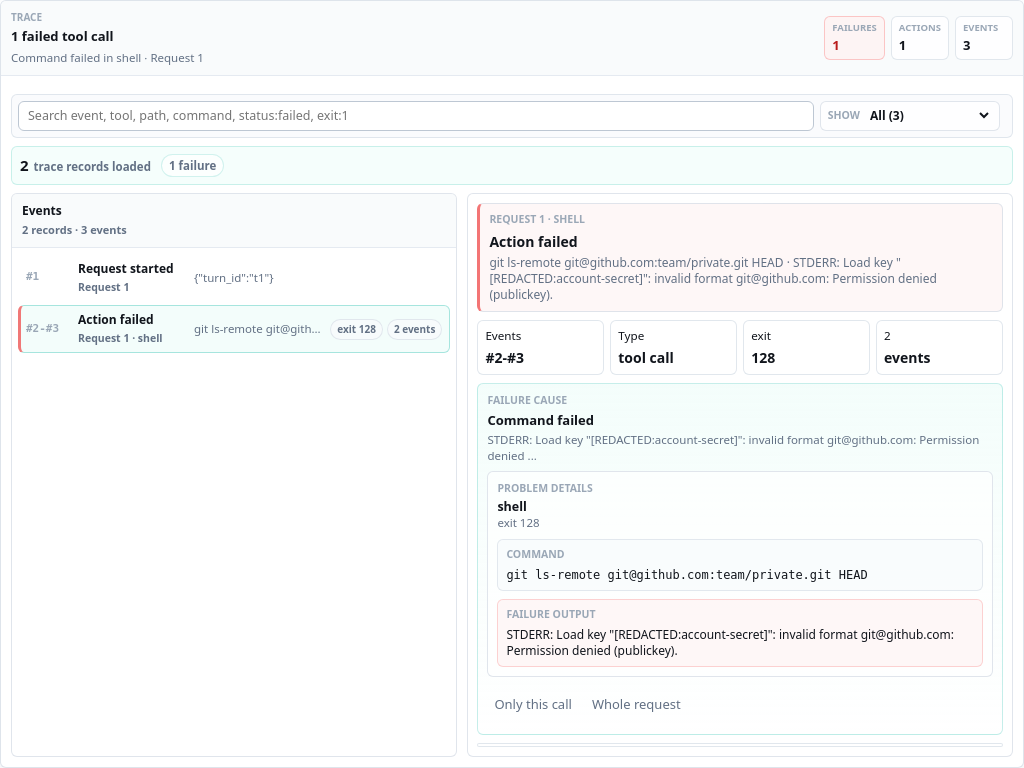
Test: SessionTracePanel › keeps Git and SSH failures searchable without crowding the toolbar
This screenshot has width=1024, height=768.
Select "Commands (2)" in the dropdown named "Trace category": (929, 116) [866, 106, 992, 125]
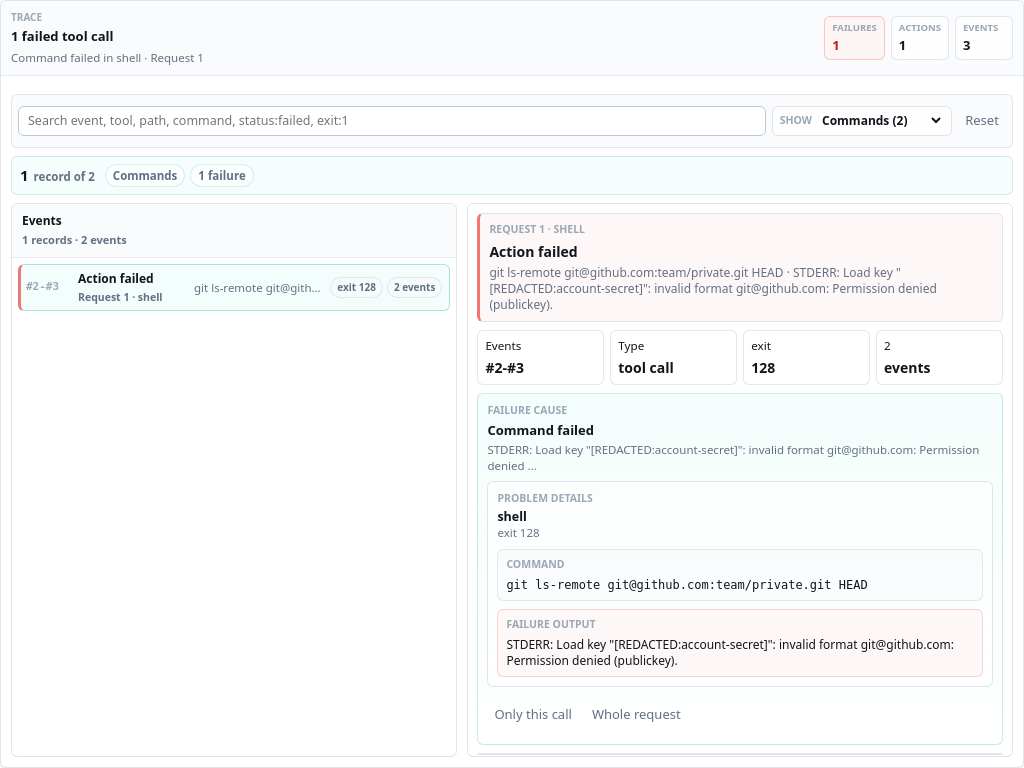
In the field named "Search events": (392, 121) [18, 106, 766, 136], type "permission denied"
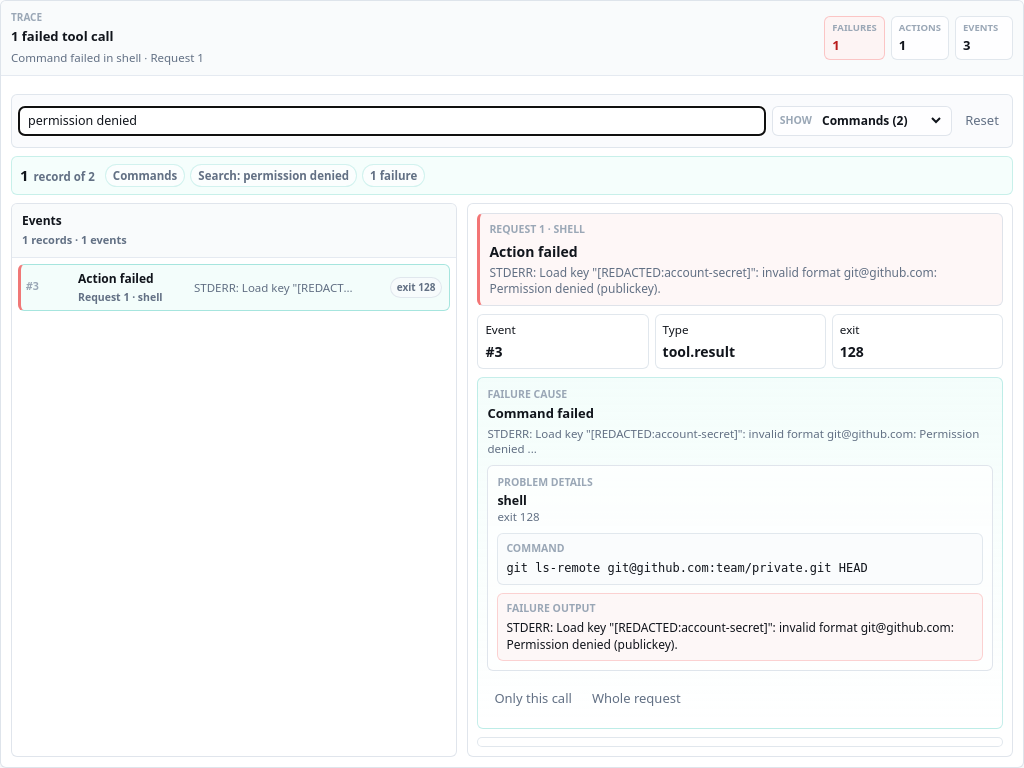
Expected: the element with test id "session-trace-event-detail" shows "Permission denied", [489, 264, 937, 297]
Result: the element with test id "session-trace-resultbar" shows "Commands" at [113, 168, 177, 183]
Result: the element with test id "session-trace-resultbar" shows "Search: permission denied" at [11, 156, 1013, 195]
Click the button "Reset": (982, 121) [958, 101, 1006, 141]
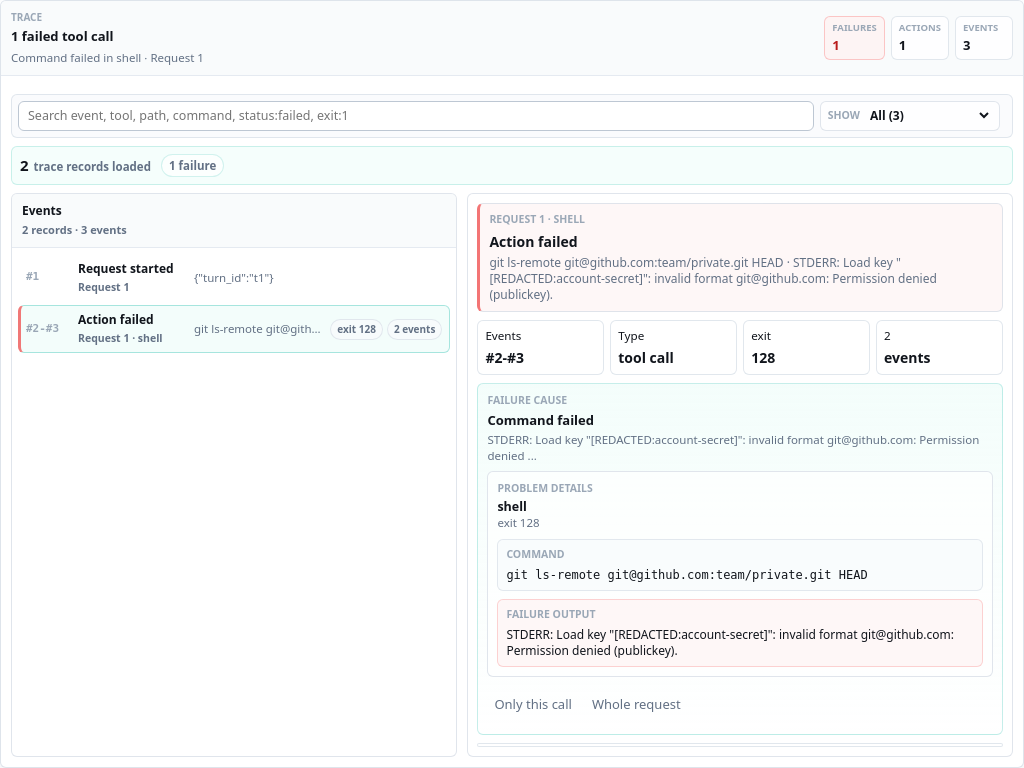
Select "Commands (2)" in the dropdown named "Trace category": (929, 116) [866, 106, 992, 125]
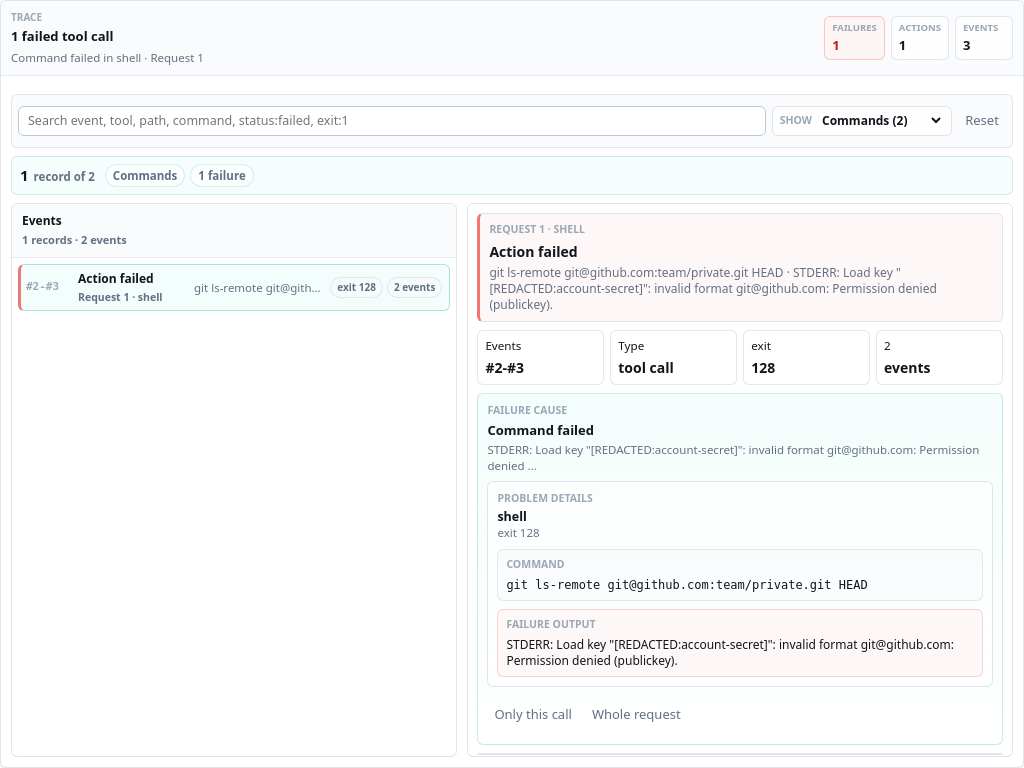
In the field named "Search events": (392, 121) [18, 106, 766, 136], type "invalid format"
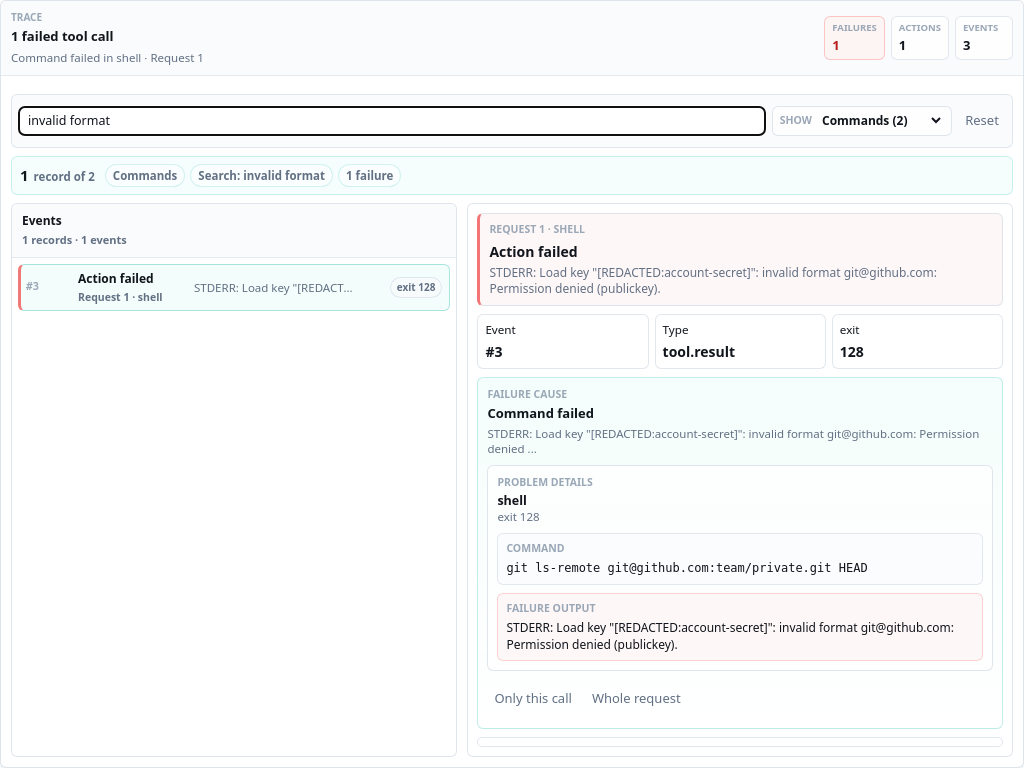
Expected: the element with test id "session-trace-event-detail" shows "invalid format", [489, 264, 937, 297]
Result: the element with test id "session-trace-resultbar" shows "Search: invalid format" at [11, 156, 1013, 195]
